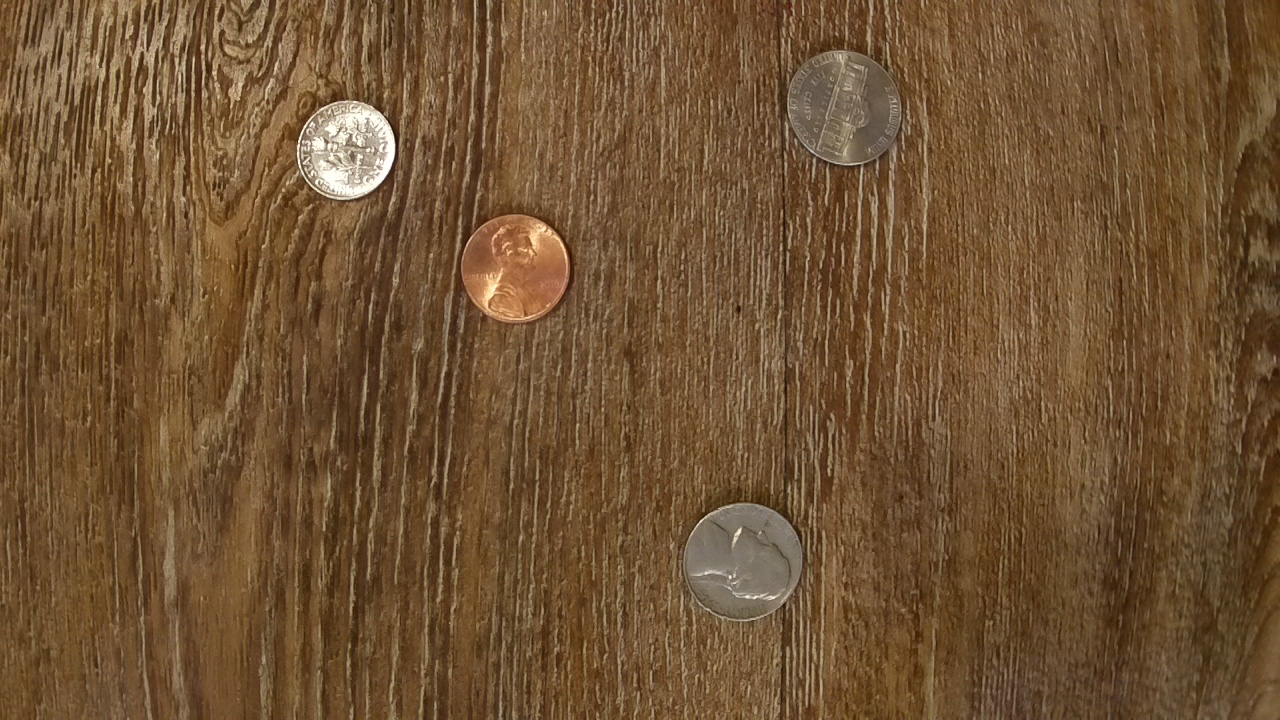dime: (294, 96, 400, 204)
nickel: (678, 496, 812, 626), (782, 43, 908, 171)
penny: (456, 208, 574, 326)
